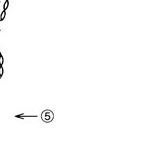chain: (0, 66, 5, 80), (0, 54, 5, 67)
enseble_chain: (12, 108, 40, 124), (40, 109, 55, 123)
